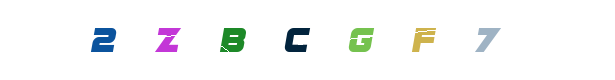2: (68, 0, 148, 80)
7: (388, 0, 468, 80)
B: (193, 0, 273, 80)
C: (256, 0, 336, 80)
F: (345, 0, 425, 80)
G: (269, 0, 349, 80)
Z: (127, 0, 207, 80)
